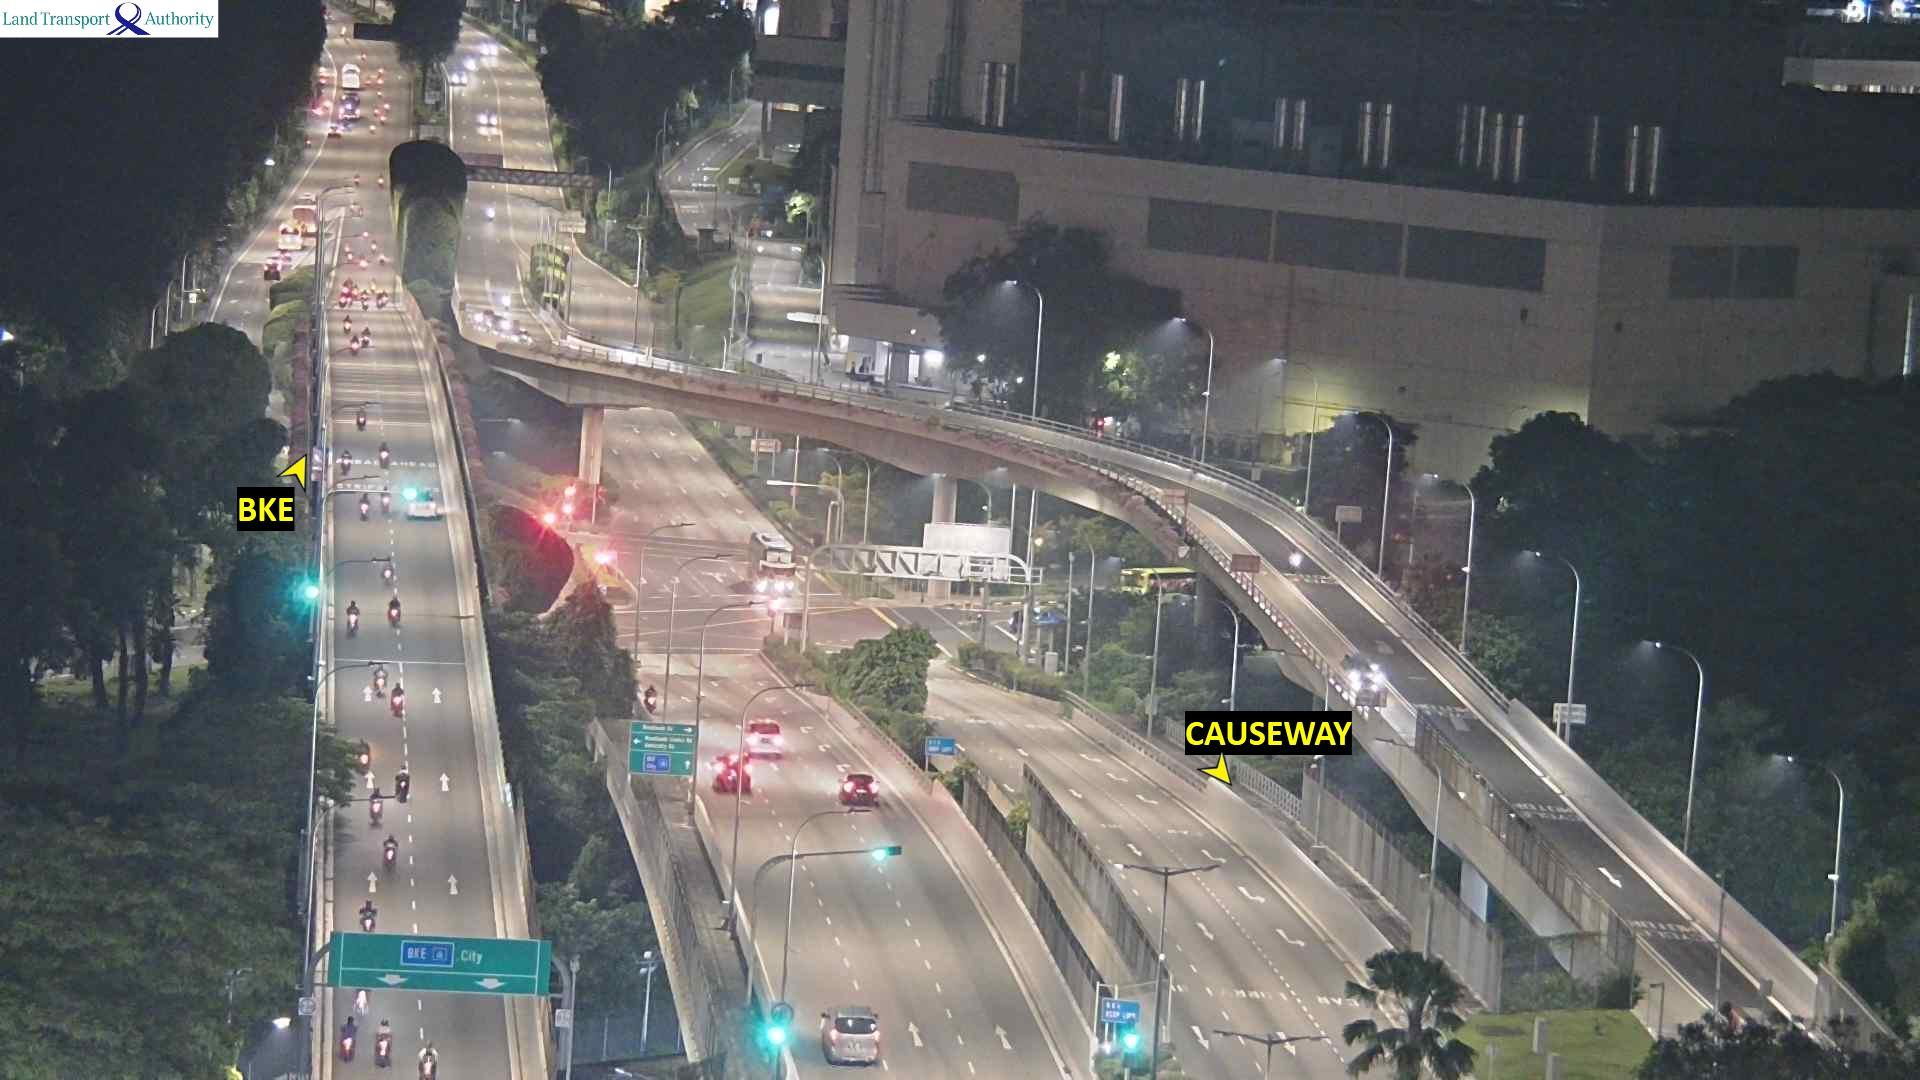vehicle-causeway-johor: (749, 530, 792, 594), (1344, 657, 1385, 706), (485, 308, 503, 322), (1289, 548, 1299, 571), (513, 330, 529, 340)
vehicle-causeway-singapore: (817, 1007, 879, 1065), (736, 726, 791, 761), (836, 773, 884, 808), (713, 763, 755, 796), (376, 1017, 391, 1063), (419, 1042, 435, 1079), (341, 1015, 355, 1057), (372, 662, 386, 695), (347, 600, 361, 633), (356, 904, 372, 931), (357, 735, 370, 768), (400, 780, 417, 804), (372, 786, 382, 823), (389, 838, 400, 866), (391, 599, 402, 626), (398, 773, 408, 802), (362, 411, 377, 429), (358, 493, 367, 520), (381, 442, 390, 467), (383, 560, 393, 582), (341, 450, 351, 471), (361, 328, 372, 346), (381, 489, 389, 512), (394, 688, 403, 708), (397, 698, 405, 719), (377, 289, 385, 309), (349, 336, 358, 352), (361, 289, 367, 312), (342, 288, 352, 300), (344, 317, 351, 334)
